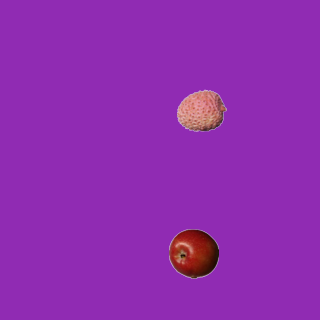Apple Braeburn: (168, 228, 218, 278)
Lychee: (176, 85, 226, 135)
